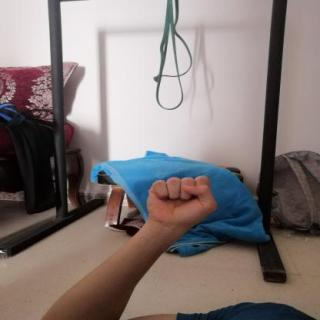SAD: (132, 168, 225, 238)
